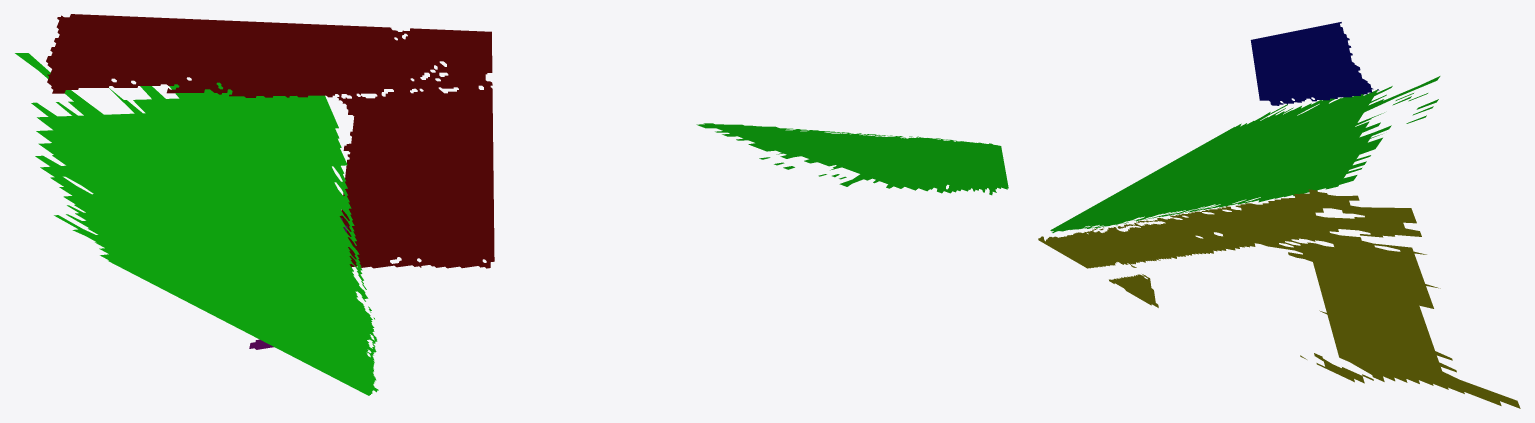
The model's file is 136_seg_GTplane.glb.
The picture shows the model from 3 angles, left to right: view 1: azimuth 30°, elevation 25°; view 2: azimuth 150°, elevation 25°; view 3: azimuth 270°, elevation 25°; orthographic projection. The views are drawn at different scales.
Size of the model in its own units: 2.61 by 2.04 by 3.2.
